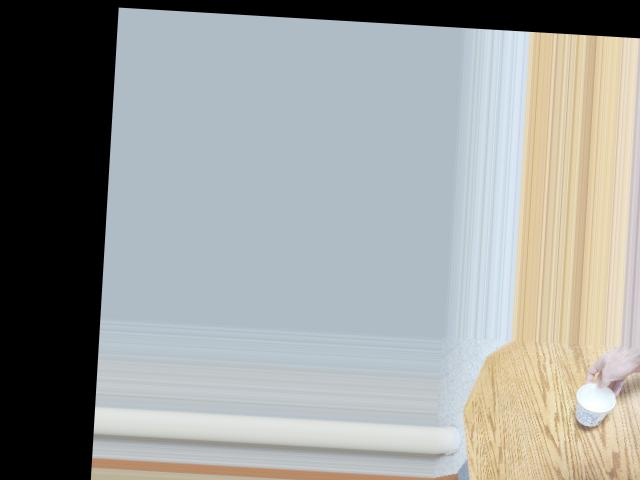cotage: (575, 381, 608, 425)
